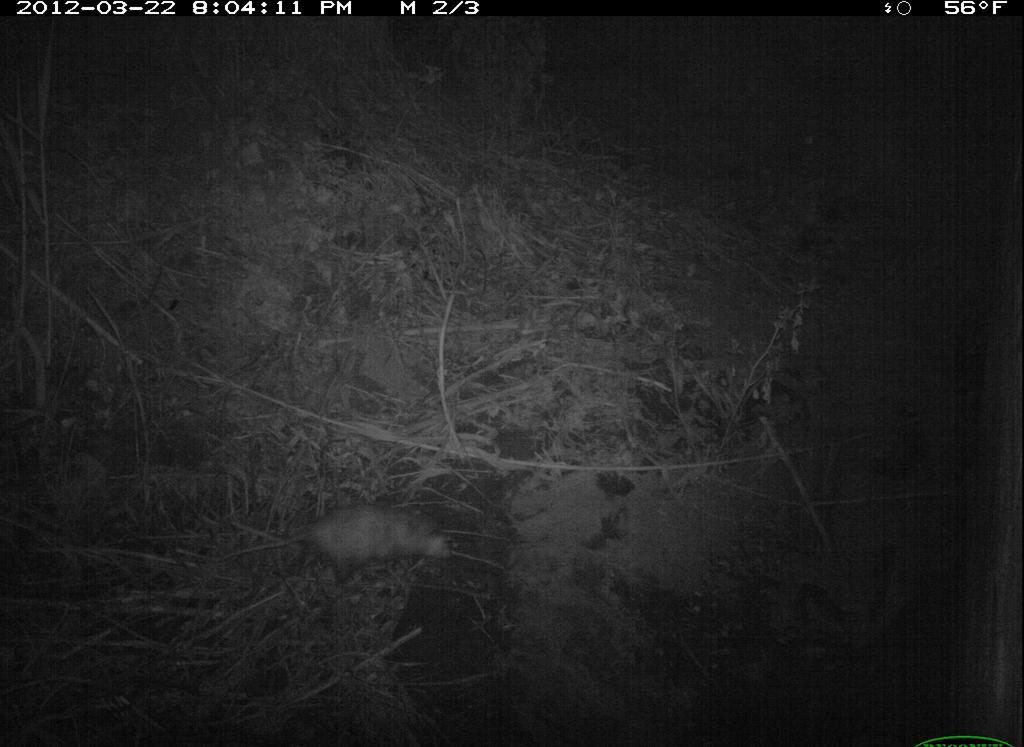opossum: (249, 487, 468, 598)
